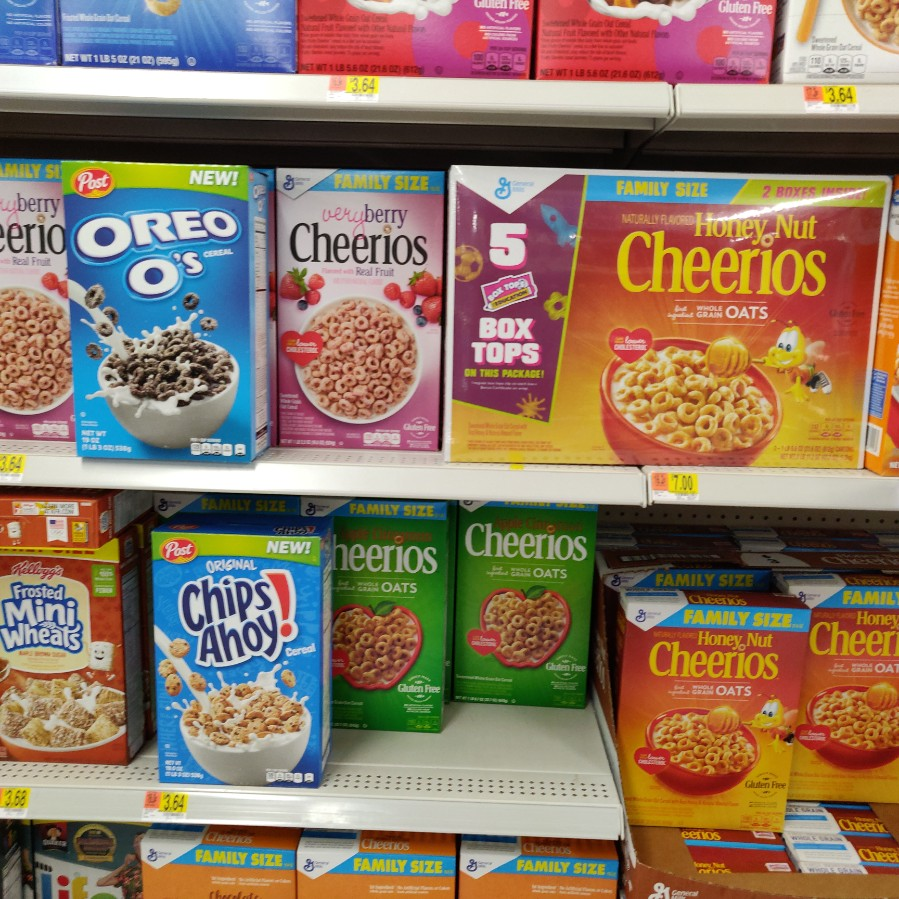Chips Ahoys-565717529: (146, 529, 325, 785)
Oreo-563424384: (61, 158, 255, 463)
